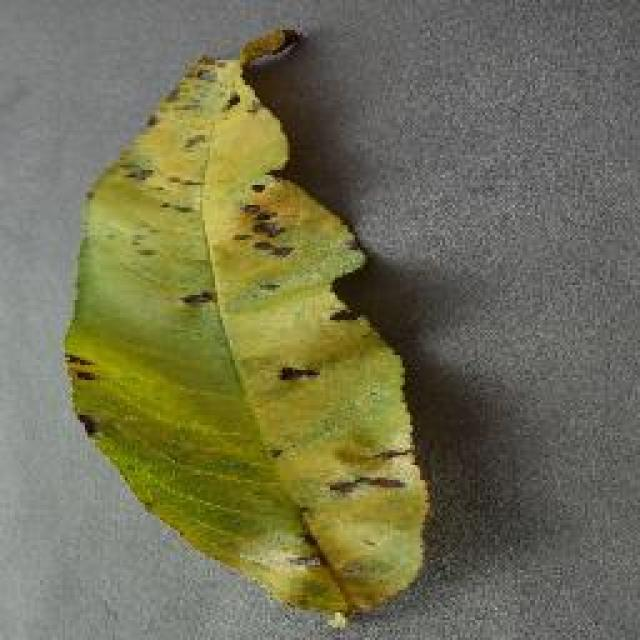Peach_Bacterial_Spot: (132, 79, 402, 484)
